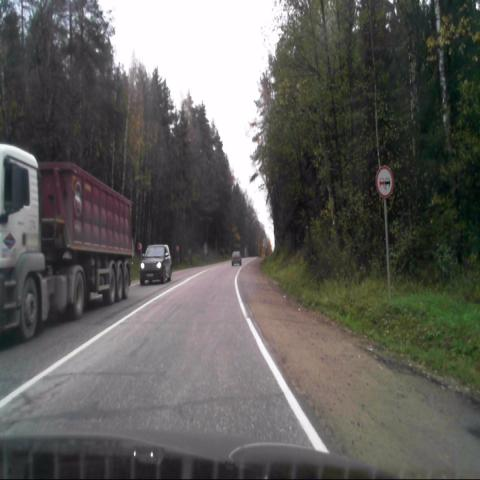3_20: (375, 164, 394, 198)
